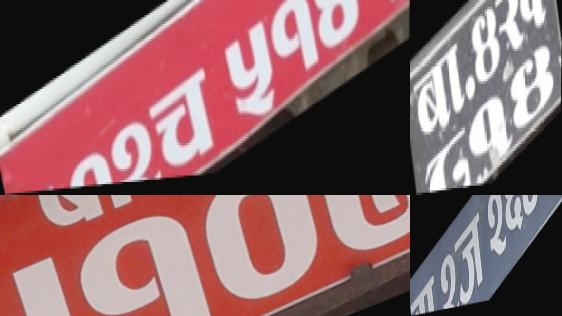0: (183, 195, 341, 316)
1: (60, 198, 228, 316), (263, 0, 325, 106), (465, 78, 516, 188), (62, 135, 126, 190), (347, 0, 410, 39)
2: (105, 103, 168, 186), (484, 195, 508, 282), (436, 242, 461, 312)
4: (505, 27, 560, 150), (304, 0, 365, 71), (466, 0, 504, 98), (515, 195, 541, 238), (531, 195, 558, 212)
5: (215, 14, 283, 143), (0, 244, 103, 316)
6: (499, 195, 526, 261)
7: (299, 195, 410, 270)
8: (420, 118, 475, 194)
ba: (410, 33, 469, 159), (18, 195, 158, 246), (410, 267, 441, 316)
cha: (144, 56, 223, 183)
ja: (452, 203, 488, 309)
kha: (493, 0, 554, 71)
